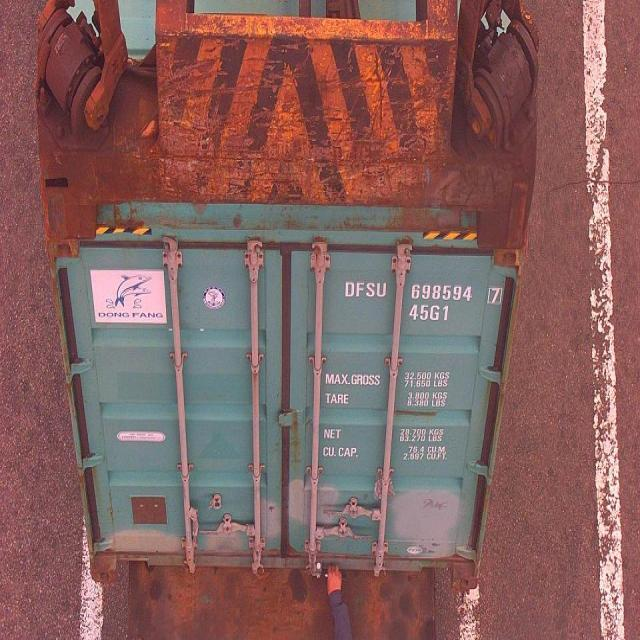ISO: (409, 305, 448, 323)
container_number: (344, 276, 502, 304)
